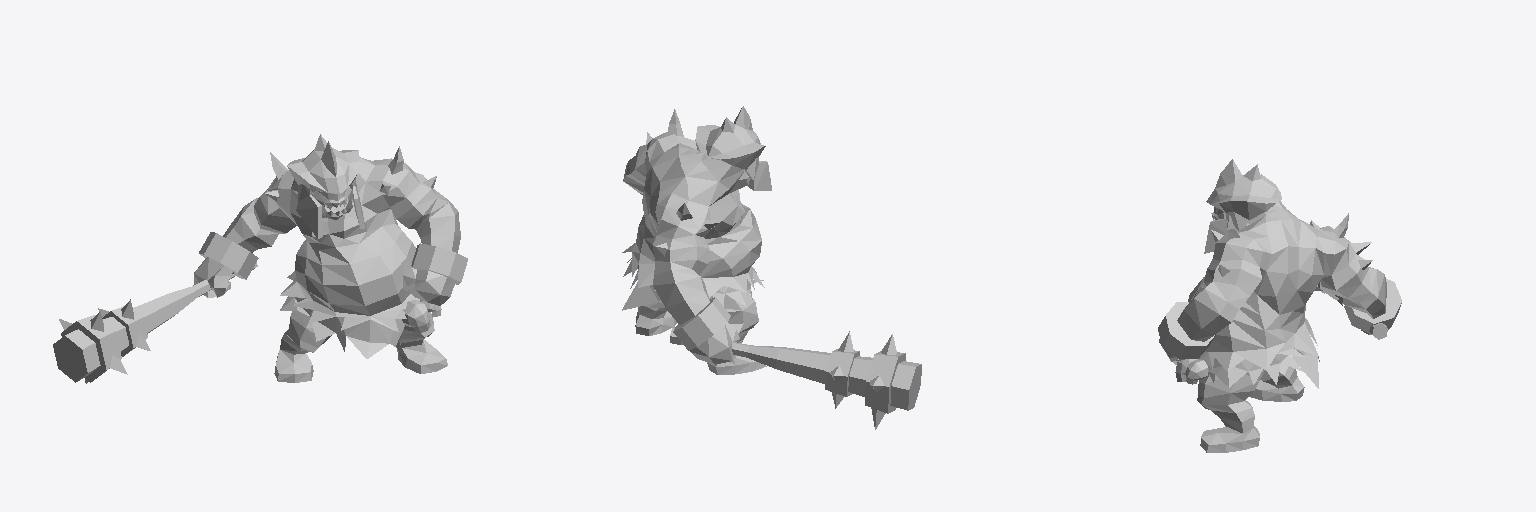
Rendered from Attack02 (32).obj.
3 renders of one model, left to right at view 1: azimuth 30°, elevation 25°; view 2: azimuth 150°, elevation 25°; view 3: azimuth 270°, elevation 25°, orthographic.
Parts seen in each view (by area): view 1: Cyclops03, Cyclops01_W; view 2: Cyclops03, Cyclops01_W; view 3: Cyclops03, Cyclops01_W.
Boxes of the visible parts, x1,y1,x2,y2 form: Cyclops03: [193, 134, 467, 382]; Cyclops01_W: [53, 262, 257, 383]; Cyclops03: [622, 106, 771, 374]; Cyclops01_W: [670, 327, 921, 429]; Cyclops03: [1158, 159, 1401, 452]; Cyclops01_W: [1310, 220, 1387, 339].
Size of the model in its own units: 377 by 253 by 232.